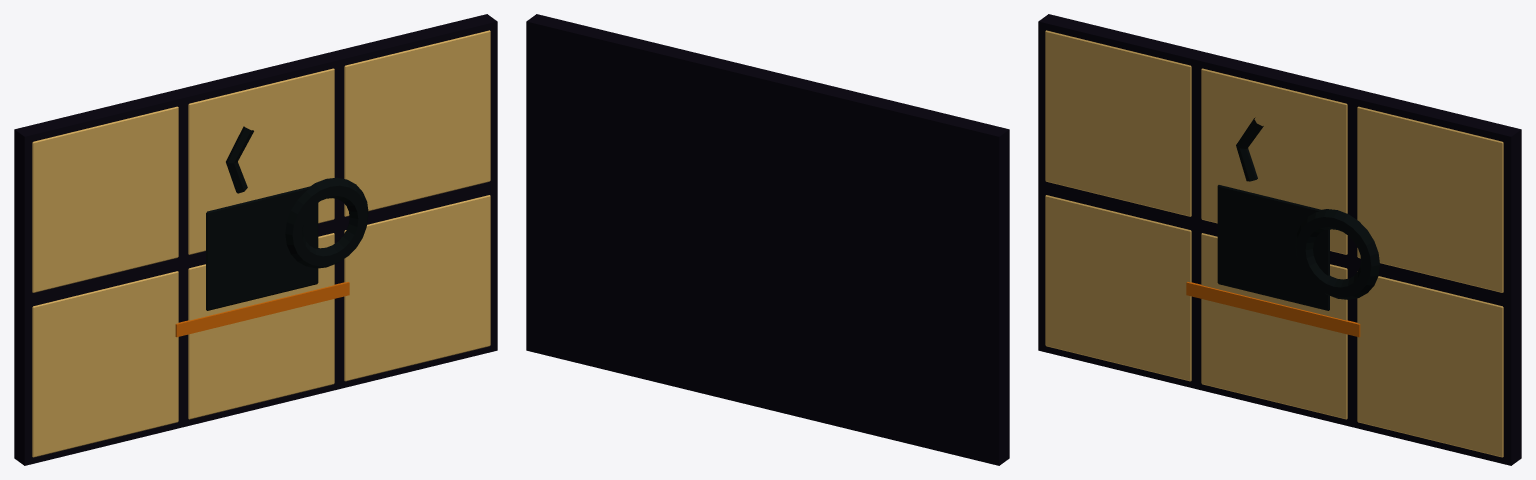
File: facade_break_panel.fbx
The picture shows the model from 3 angles, left to right: view 1: azimuth 30°, elevation 25°; view 2: azimuth 150°, elevation 25°; view 3: azimuth 330°, elevation 25°; orthographic projection.
Visible parts, largest first — view 1: Part_4, Part_1, Part_0, Part_3, Part_5, Part_2; view 2: Part_4, Part_1, Part_3, Part_0; view 3: Part_4, Part_1, Part_5, Part_2, Part_3, Part_0.
Part boxes in pixels (x1,y1,x2,y2): Part_4: (15, 14, 497, 350); Part_1: (24, 137, 496, 465); Part_0: (14, 130, 178, 465); Part_3: (14, 106, 178, 458); Part_5: (338, 30, 490, 226); Part_2: (338, 195, 490, 381); Part_4: (526, 14, 1008, 465); Part_1: (526, 22, 998, 465); Part_3: (999, 129, 1009, 457); Part_0: (999, 143, 1009, 465); Part_4: (1038, 14, 1520, 465); Part_1: (1038, 22, 1510, 465); Part_5: (1344, 106, 1521, 457); Part_2: (1348, 143, 1521, 465); Part_3: (1045, 30, 1191, 216); Part_0: (1045, 195, 1191, 381).
Bounding box in the file's own units: 4.48 × 2.98 × 0.252.
